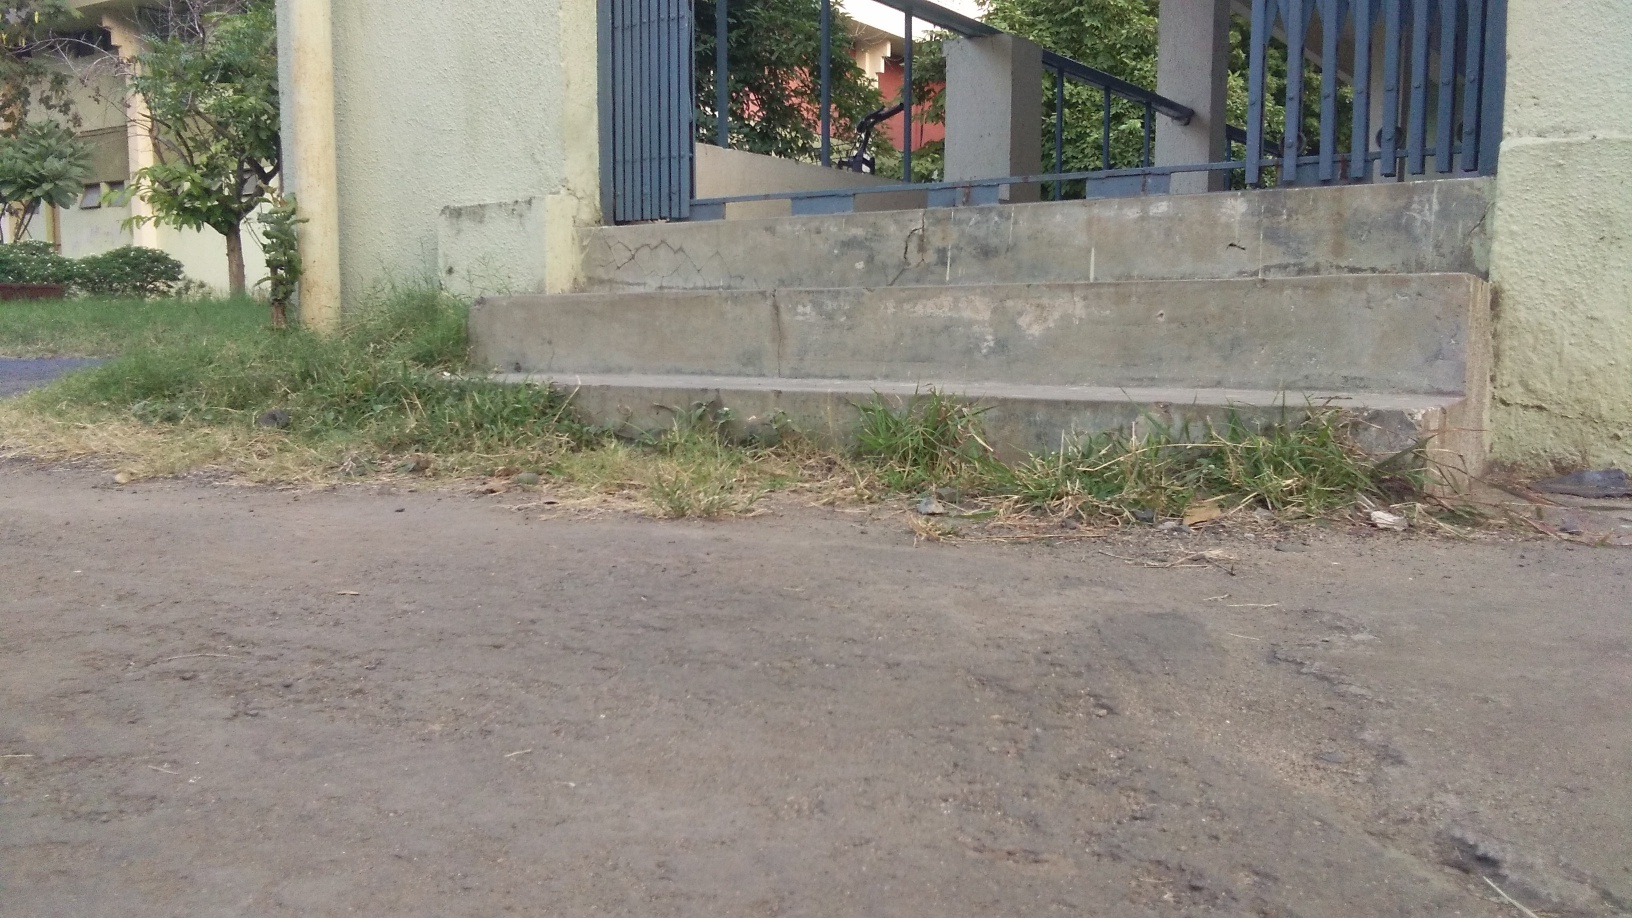stairs_up: (428, 166, 1495, 500)
